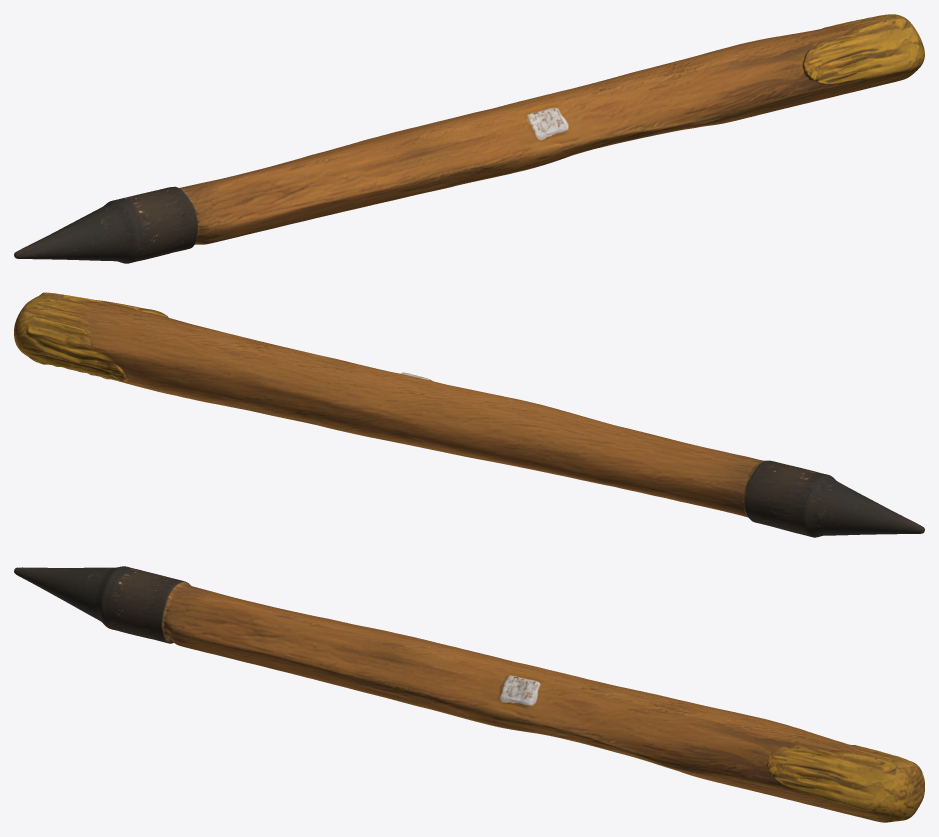
Rendered from tugal-pelubang.obj.
3 renders of one model, top to bottom at view 1: azimuth 30°, elevation 25°; view 2: azimuth 150°, elevation 25°; view 3: azimuth 330°, elevation 25°, orthographic.
Visible parts, largest first — view 1: tripo_node_0be17372-5375-4ec1-b621-3abd4fdd20f5; view 2: tripo_node_0be17372-5375-4ec1-b621-3abd4fdd20f5; view 3: tripo_node_0be17372-5375-4ec1-b621-3abd4fdd20f5.
Part boxes in pixels (x1=…): tripo_node_0be17372-5375-4ec1-b621-3abd4fdd20f5: x1=14, y1=14, x2=924, y2=263; tripo_node_0be17372-5375-4ec1-b621-3abd4fdd20f5: x1=14, y1=292, x2=924, y2=537; tripo_node_0be17372-5375-4ec1-b621-3abd4fdd20f5: x1=14, y1=566, x2=924, y2=822.
Bounding box in the file's own units: 3.23 × 0.22 × 0.2877.
